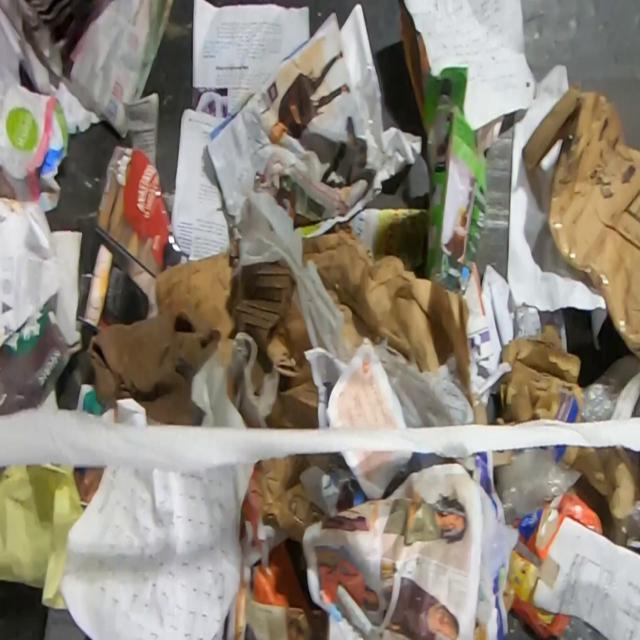cardboard: (85, 240, 320, 430), (522, 80, 640, 361), (302, 221, 474, 409), (78, 144, 190, 335), (422, 65, 488, 298), (540, 444, 640, 547), (495, 322, 584, 426)
soft_plastic: (232, 178, 359, 364), (494, 448, 584, 552), (372, 337, 475, 427), (580, 353, 640, 424), (557, 616, 608, 639), (619, 499, 640, 550)
